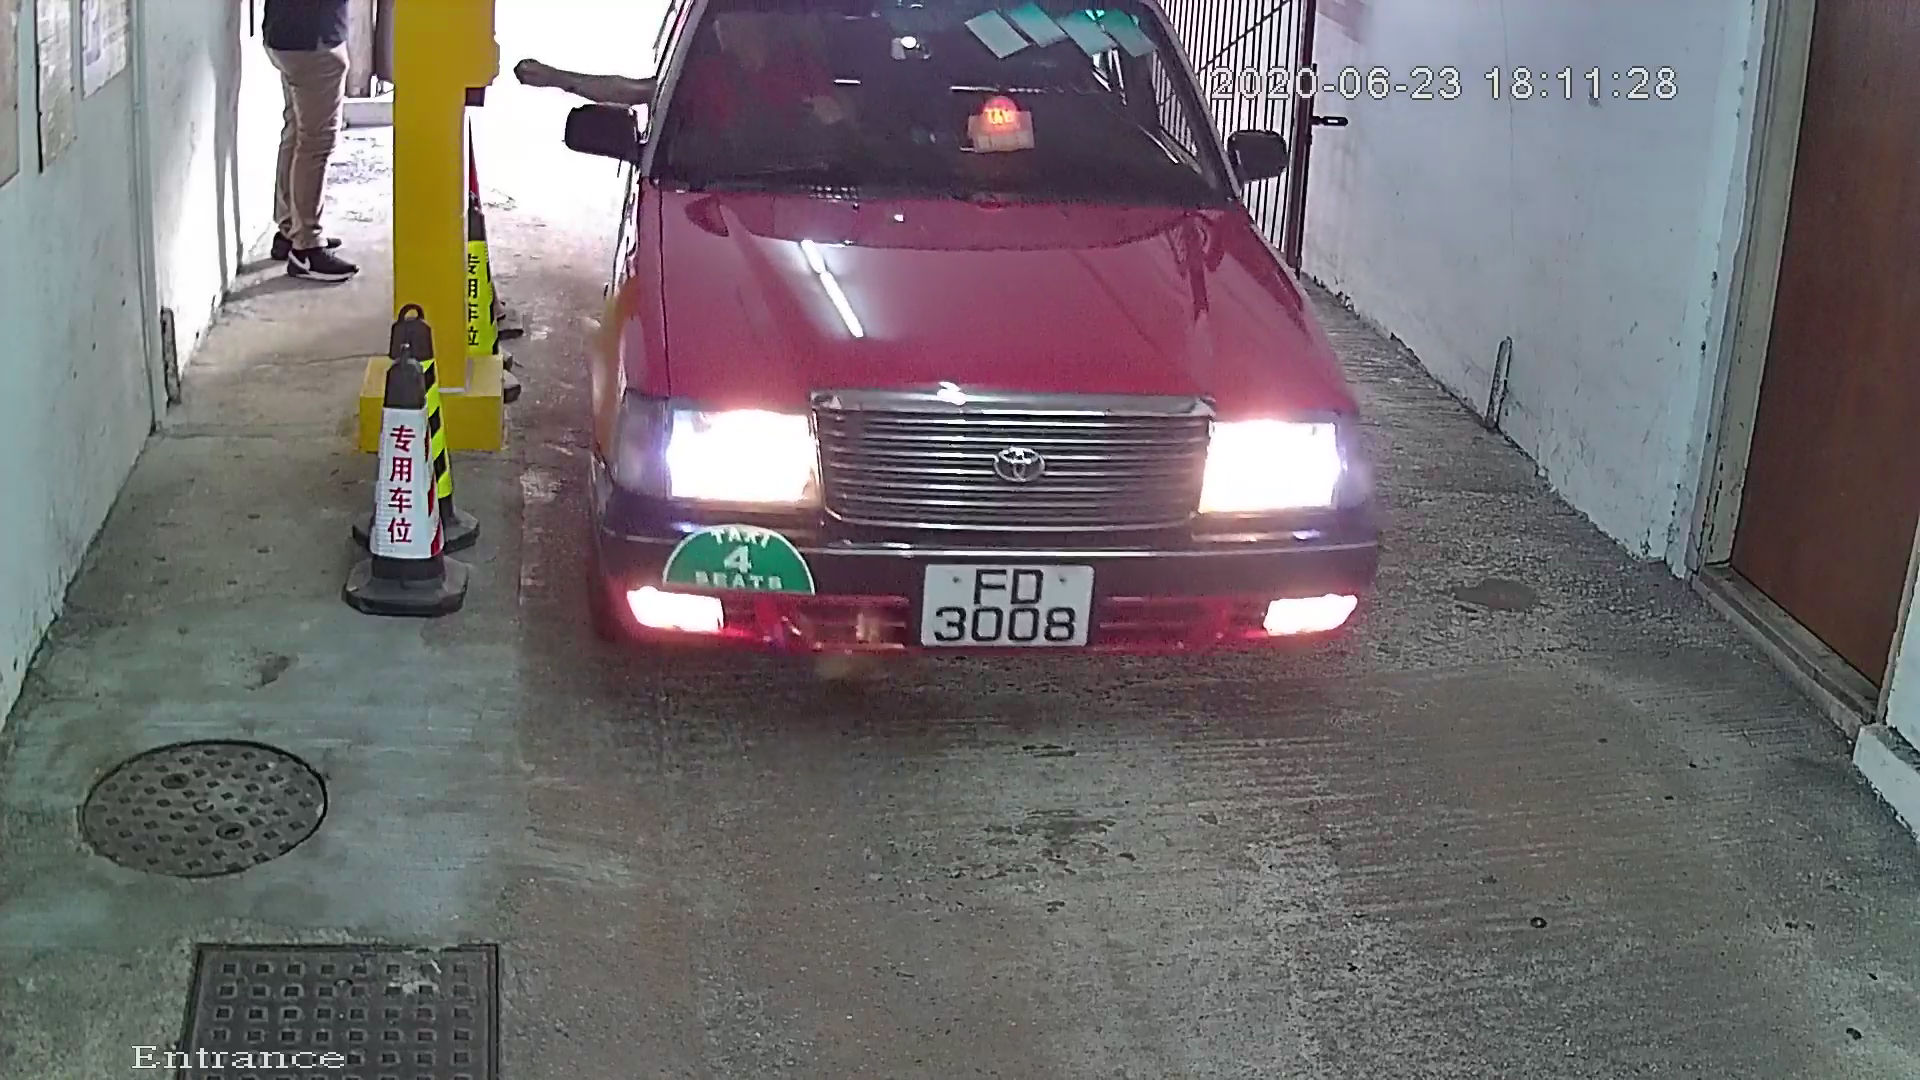taxi: (542, 3, 1414, 736)
taxi_mark: (644, 506, 825, 611)
